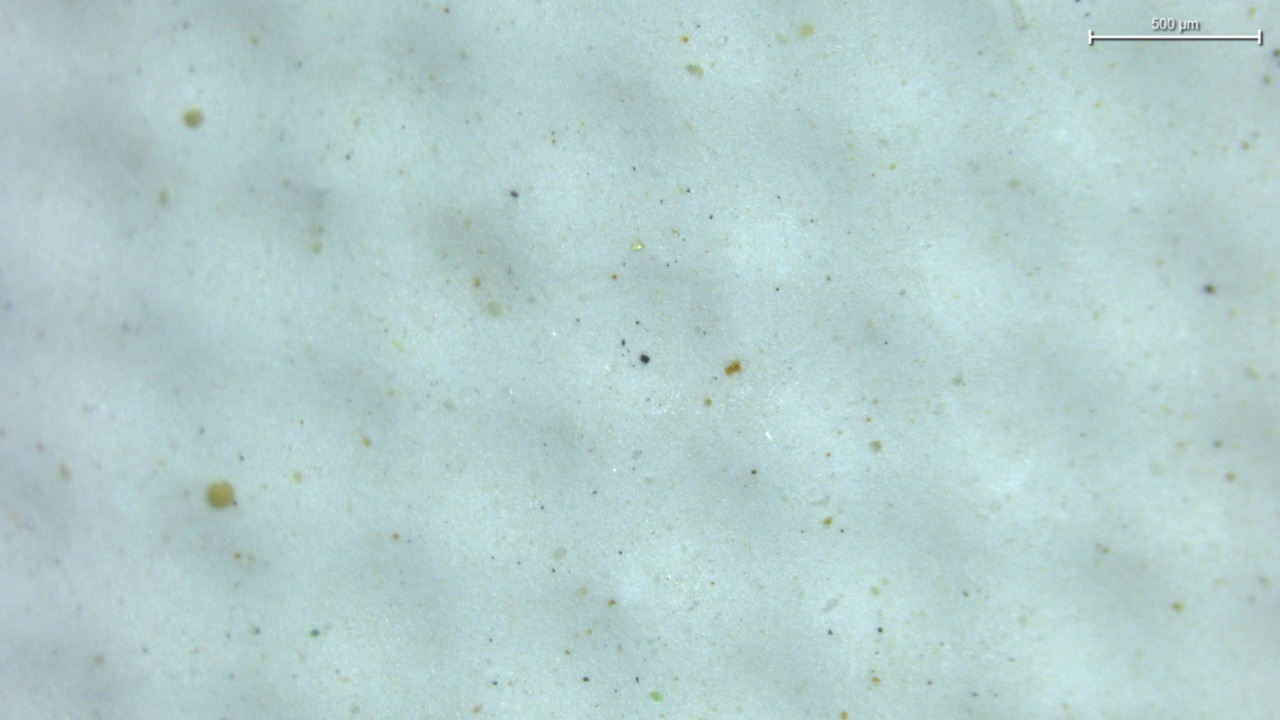microplastic_fragment: (632, 239, 644, 250)
